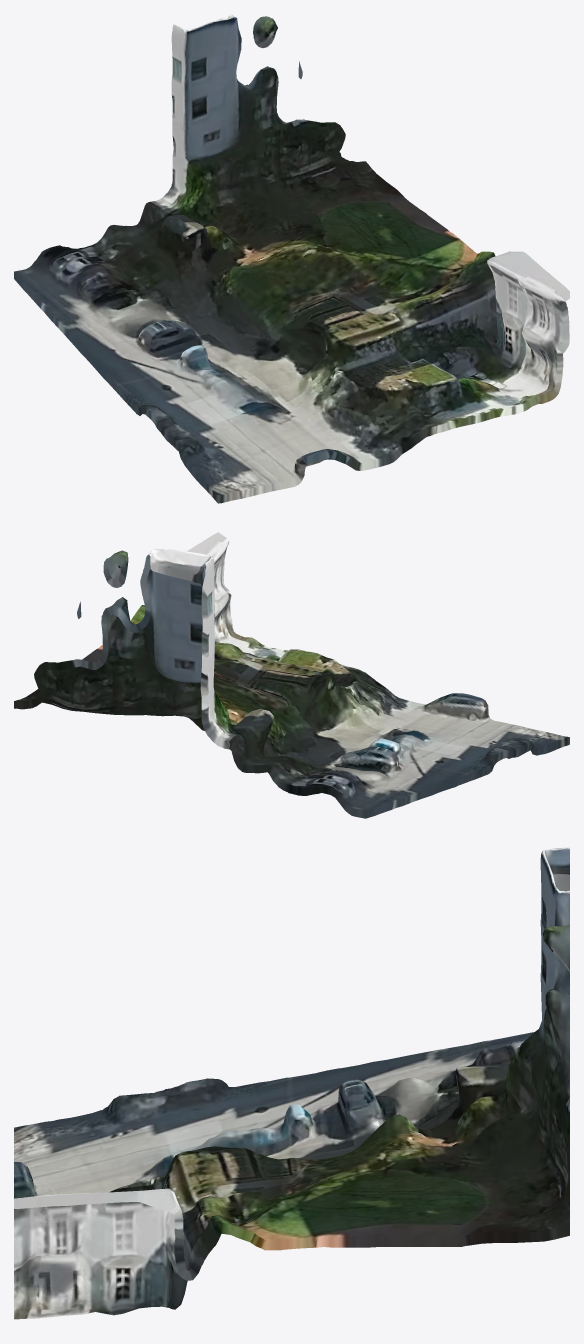
Rendered from z20-167716-405192-h0-yup-uvflip-v3-world.glb.
The picture shows the model from 3 angles, top to bottom: view 1: azimuth 30°, elevation 25°; view 2: azimuth 150°, elevation 25°; view 3: azimuth 270°, elevation 25°; orthographic projection. The views are drawn at different scales.
Bounding box in the file's own units: 30.16 × 24.12 × 30.32.
1 material, 1 textured.
